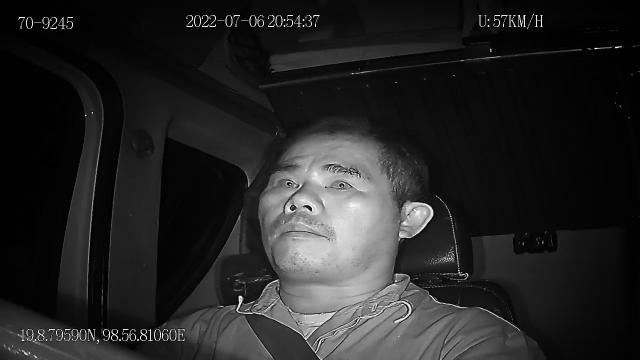SafeDriving: (318, 170, 359, 195), (266, 170, 303, 194)
Seatbelt: (241, 276, 323, 360)
